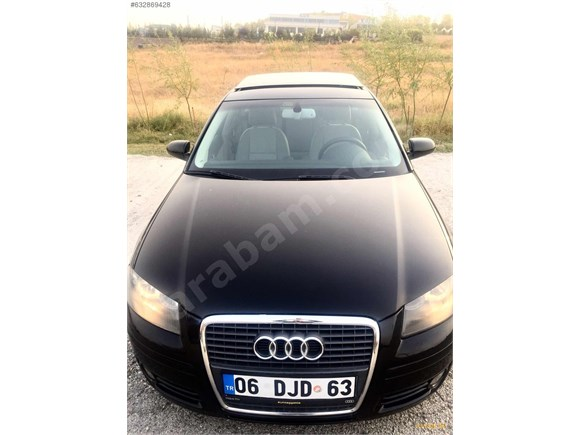audi: (248, 330, 330, 364)
